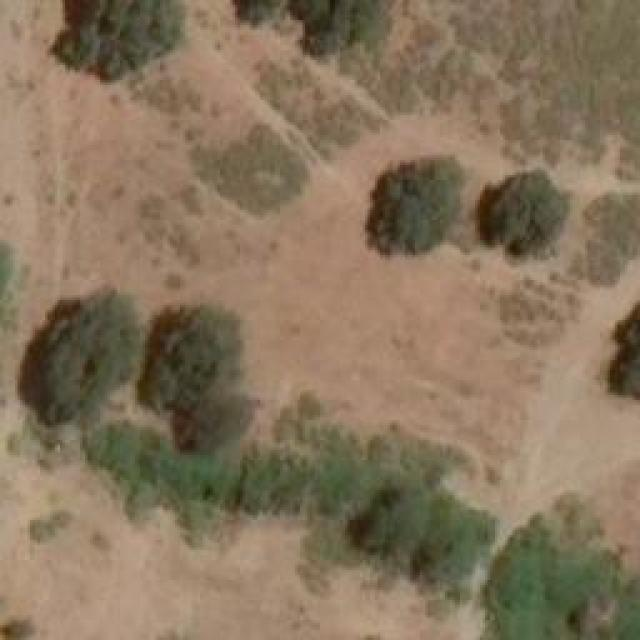Tree: (485, 513, 639, 638), (18, 298, 131, 408), (50, 0, 178, 78), (143, 303, 238, 403), (475, 173, 565, 263), (380, 158, 470, 243), (410, 493, 478, 586), (293, 0, 393, 55), (353, 480, 423, 557), (170, 388, 253, 451), (607, 304, 640, 397), (232, 0, 287, 30)
